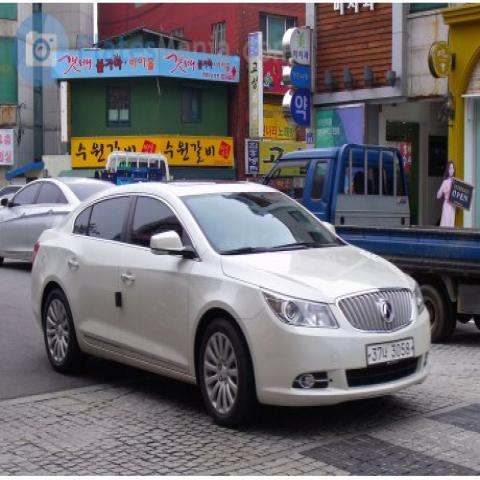LP: (363, 330, 419, 371)
